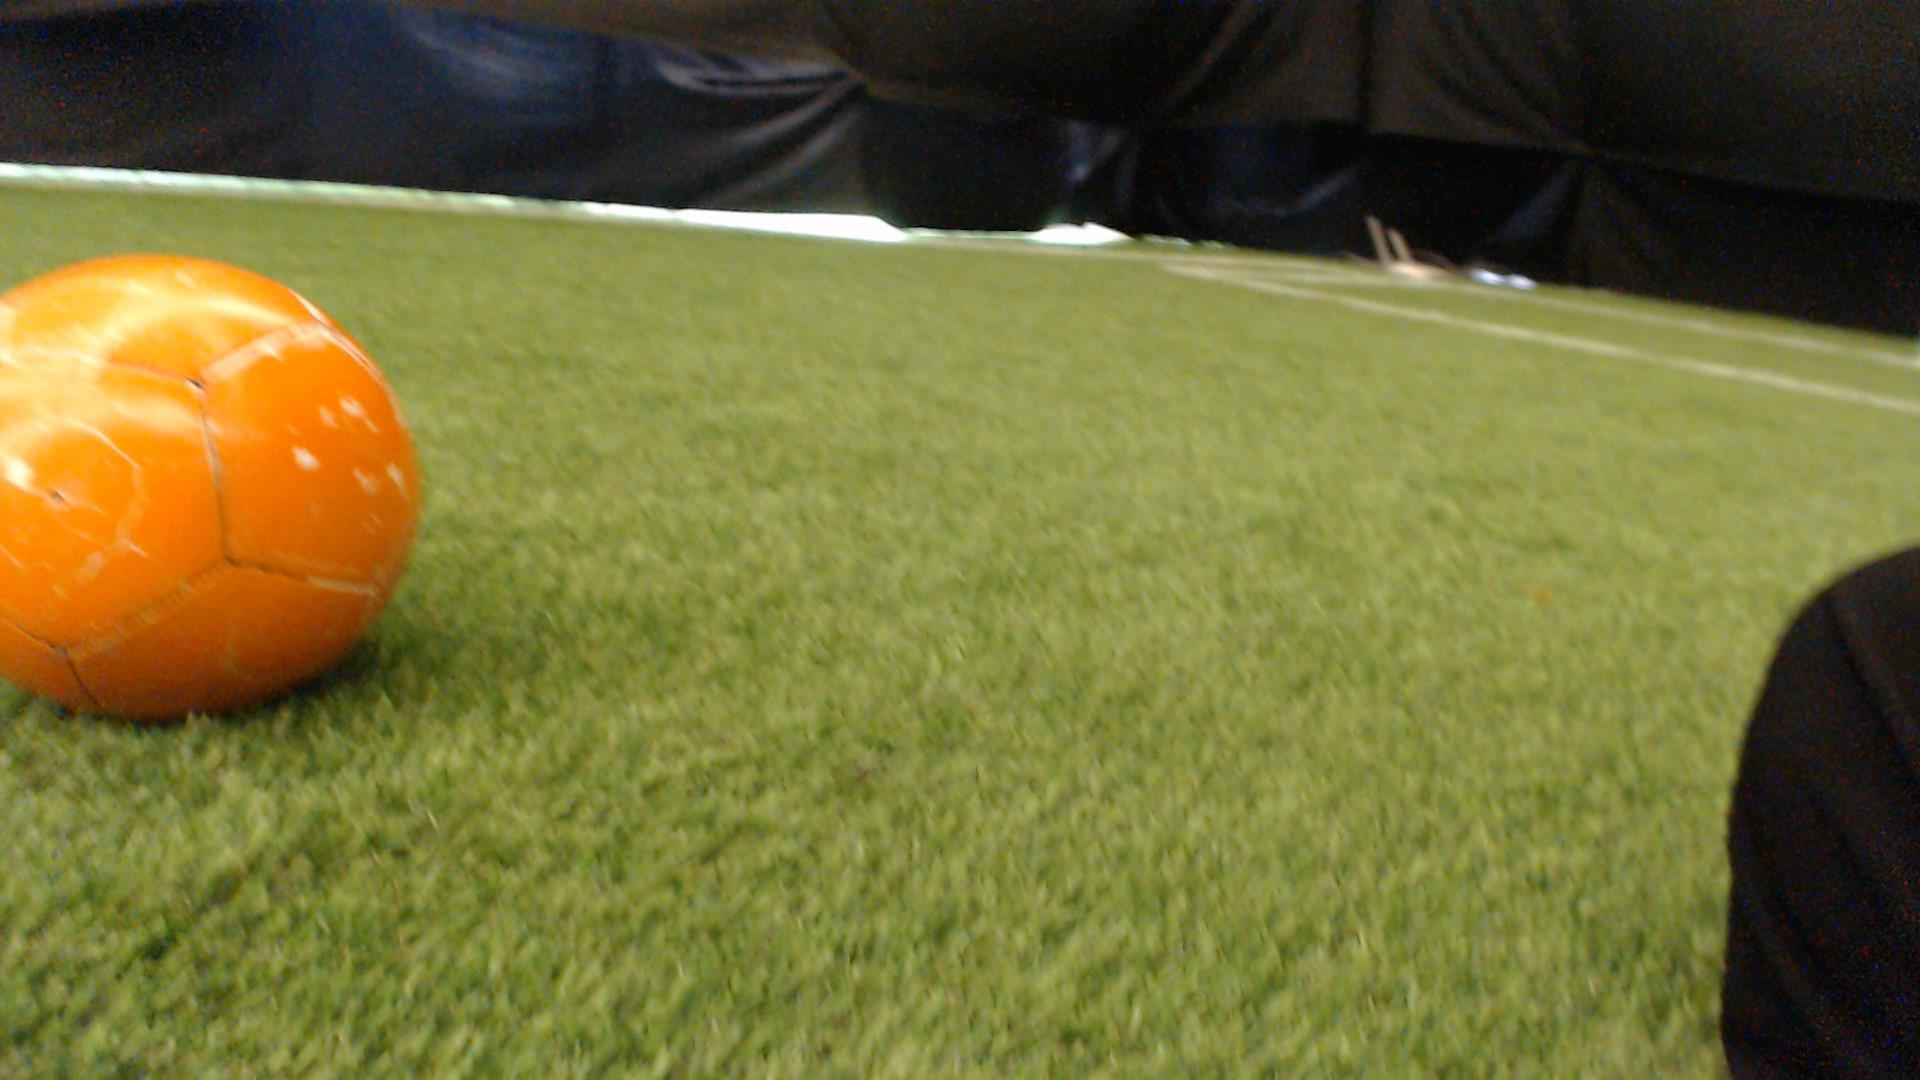bola: (0, 243, 472, 746)
